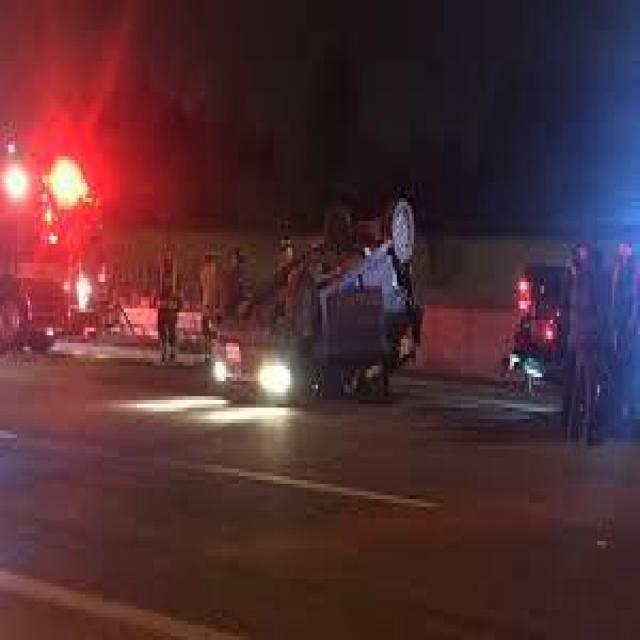severe: (204, 188, 428, 410)
